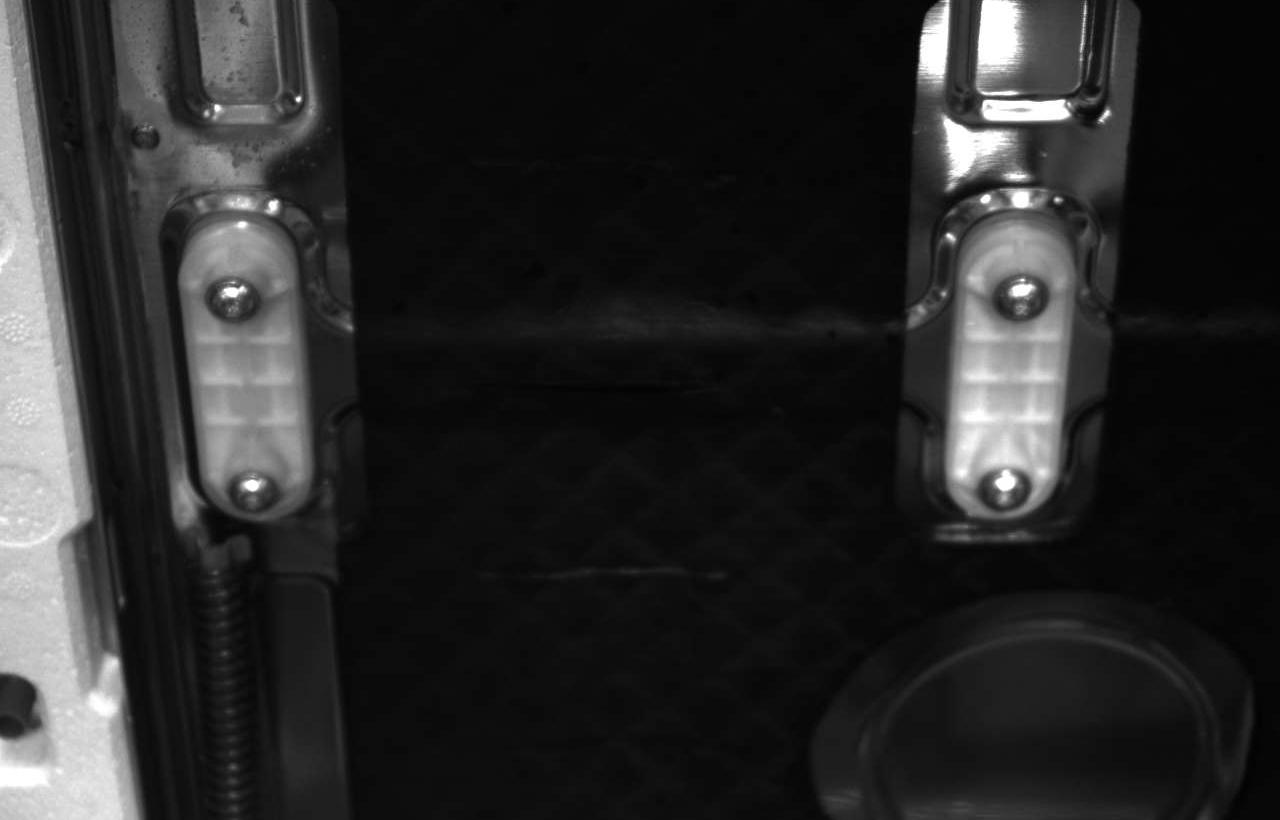vida-ok: (197, 268, 269, 335), (991, 265, 1059, 332), (974, 454, 1040, 522), (221, 461, 287, 519)
